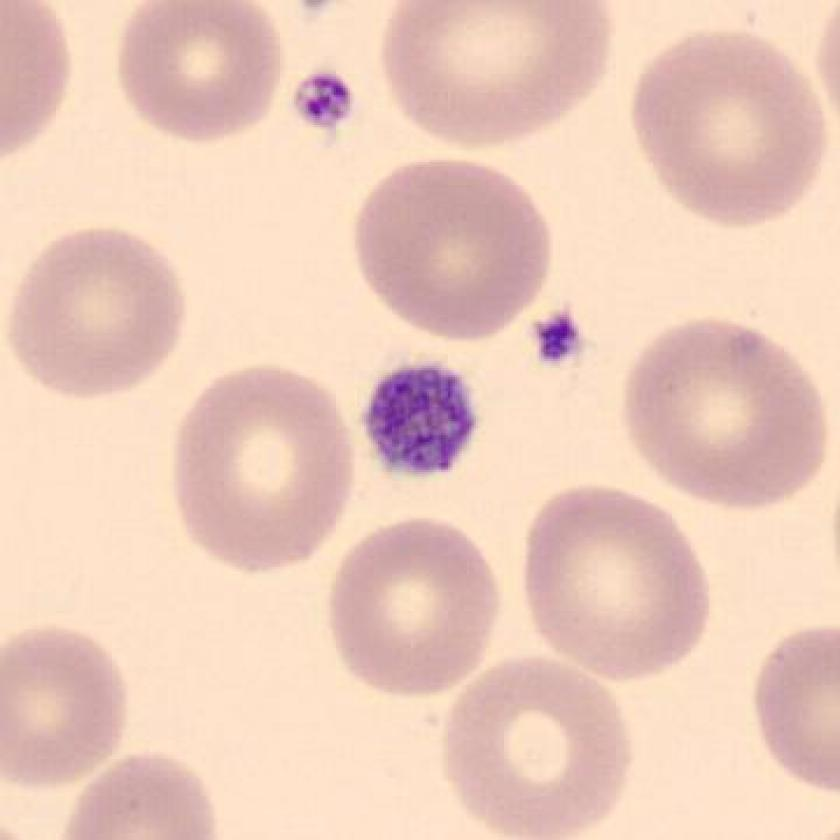platelets: (356, 348, 493, 489), (521, 300, 601, 388), (283, 66, 363, 144)
